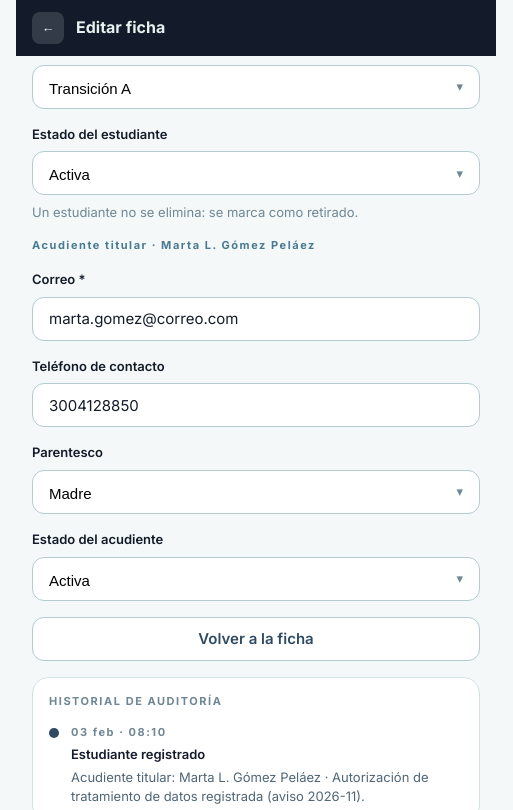
editar ficha (HU01-E3) › envía solo lo que cambió, guarda a nombre de quien edita y lo registra en el historial
(page scrolled)
Replace the text in the field labelled "Teléfono de contacto" with "3012207741" at coordinates (256, 405), box [33,384,479,426]
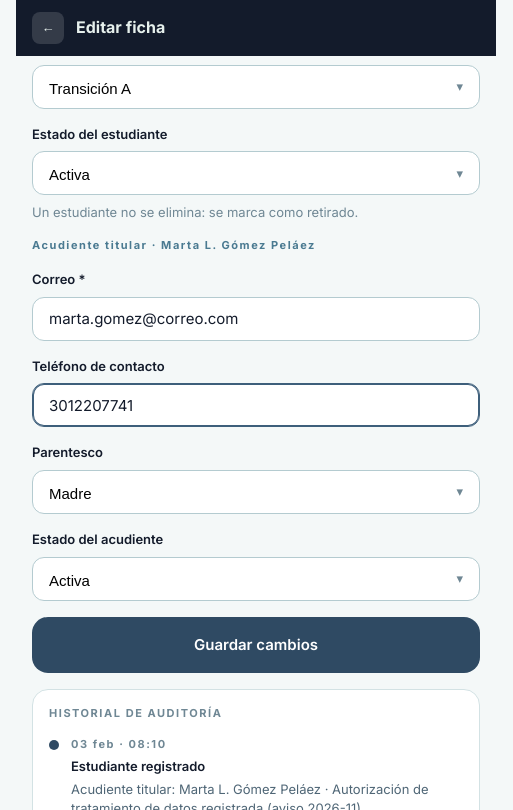
Click the button "Guardar cambios" at coordinates (256, 645), box [32,617,480,673]
(page scrolled)
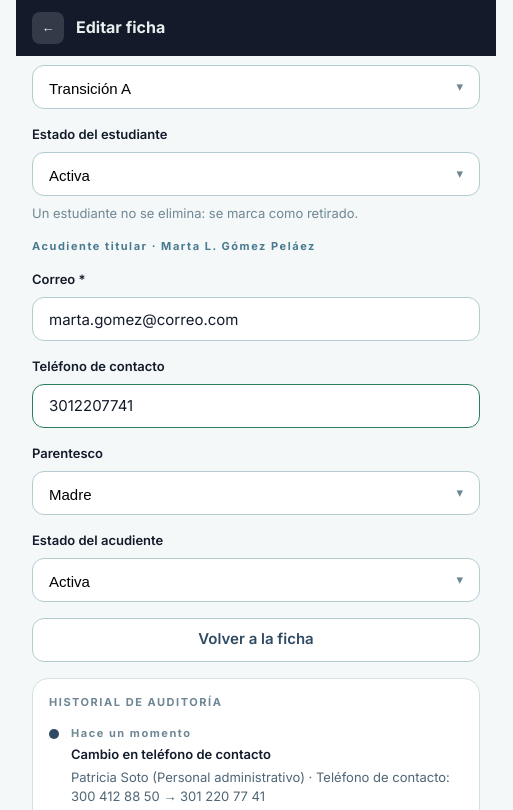
Check: the text "Hace un momento" is shown, box [71,726,192,740]
Check: the text "Cambio en teléfono de contacto" is shown, box [71,746,271,762]
Check: the text "Patricia Soto (Personal administrativo) · Teléfono de contacto: 300 412 88 50 → 301 220 77 41" is shown, box [71,769,450,804]
